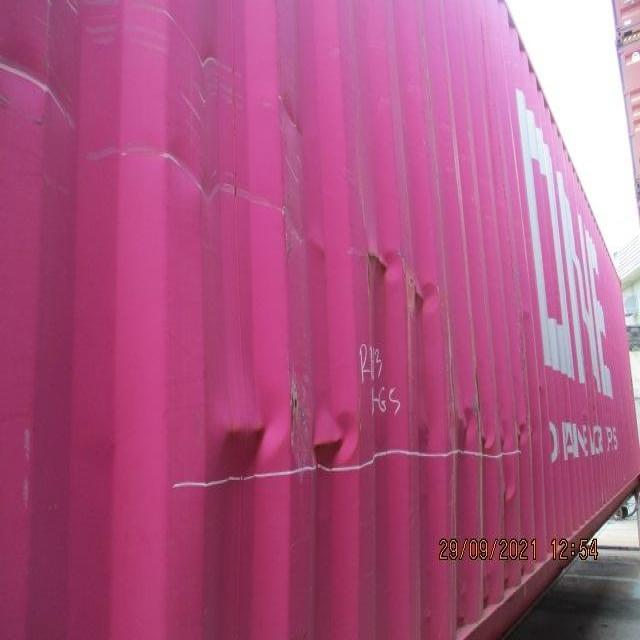dent: (201, 370, 369, 521), (426, 393, 540, 514), (350, 228, 452, 330)
